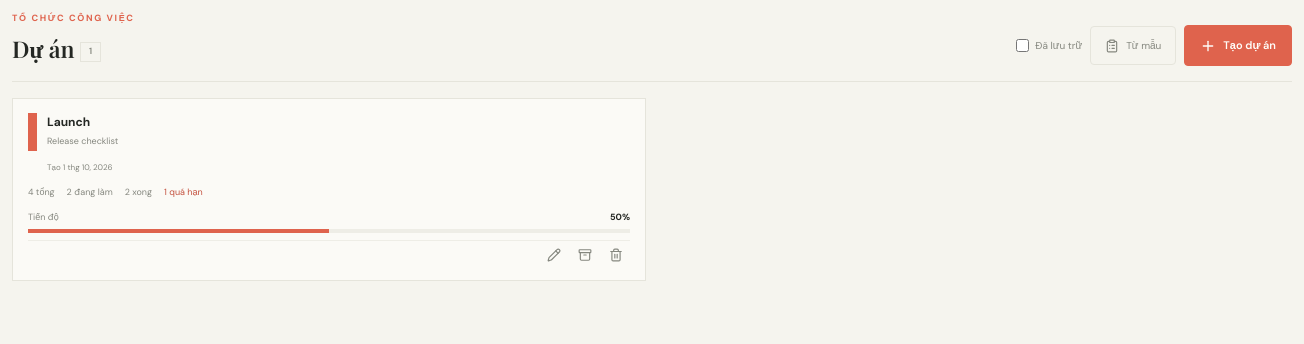
Scenario: project management › shows persisted project task statistics and completion progress
This screenshot has width=1304, height=344.
Expected: the text "4 tổng" is shown, [28,186,55,200]
Expected: the text "2 xong" is shown, [125,186,152,200]
Step 1. Click the text "Launch" → (69, 122), box [47,114,90,130]
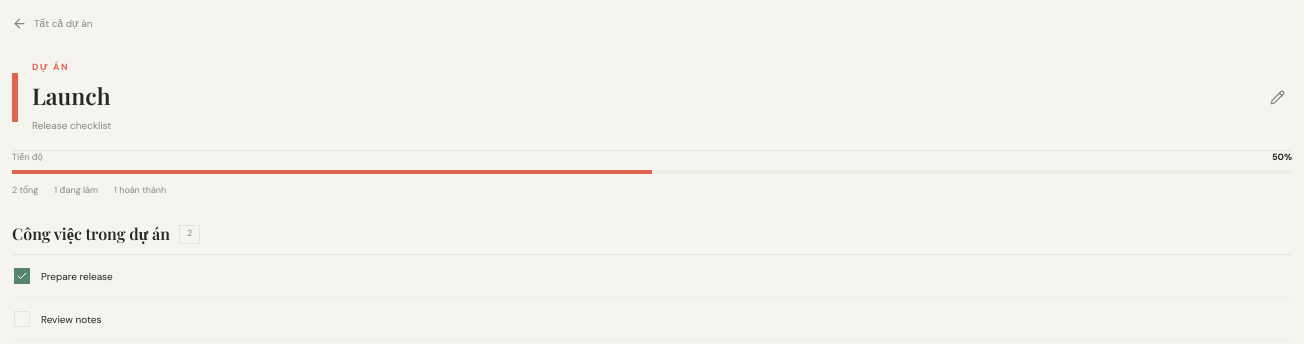
Now the button "Prepare release" is shown, box [12,255,1292,298]
